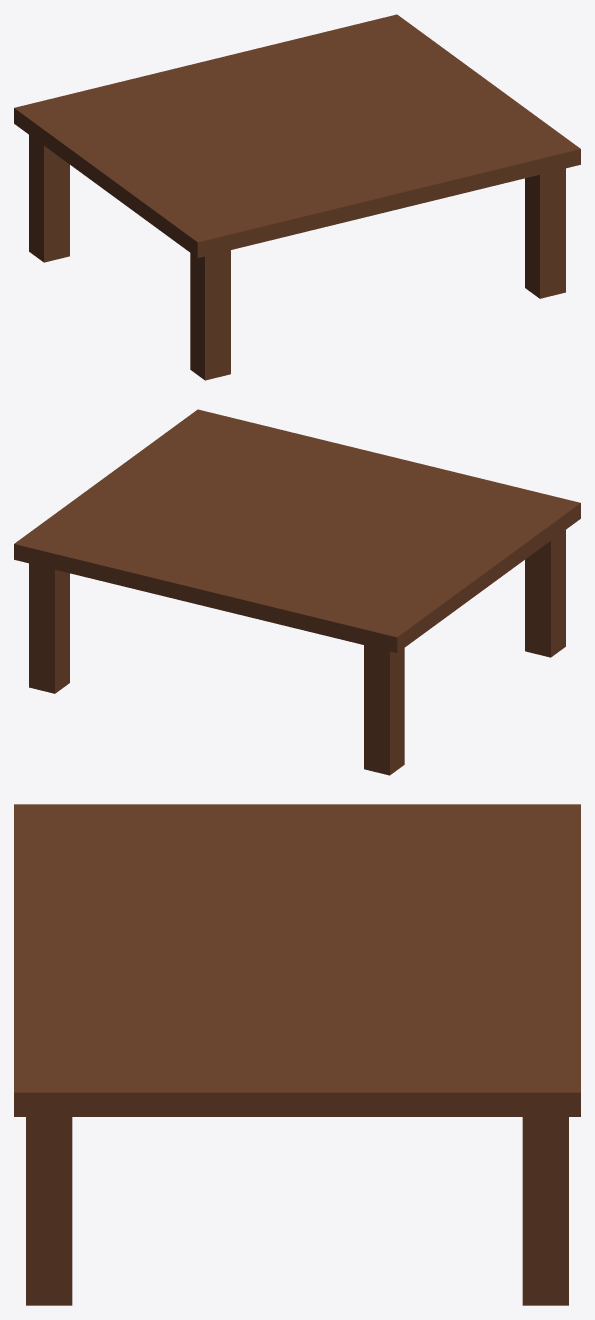
Rendered from Table.fbx.
The picture shows the model from 3 angles, top to bottom: view 1: azimuth 30°, elevation 25°; view 2: azimuth 150°, elevation 25°; view 3: azimuth 270°, elevation 25°; orthographic projection. The views are drawn at different scales.
Parts seen in each view (by area): view 1: Table; view 2: Table; view 3: Table.
Part boxes in pixels (x1=…): Table: x1=14, y1=14, x2=580, y2=380; Table: x1=14, y1=409, x2=580, y2=775; Table: x1=14, y1=804, x2=580, y2=1305.
Bounding box in the file's own units: 343 × 123 × 285.
